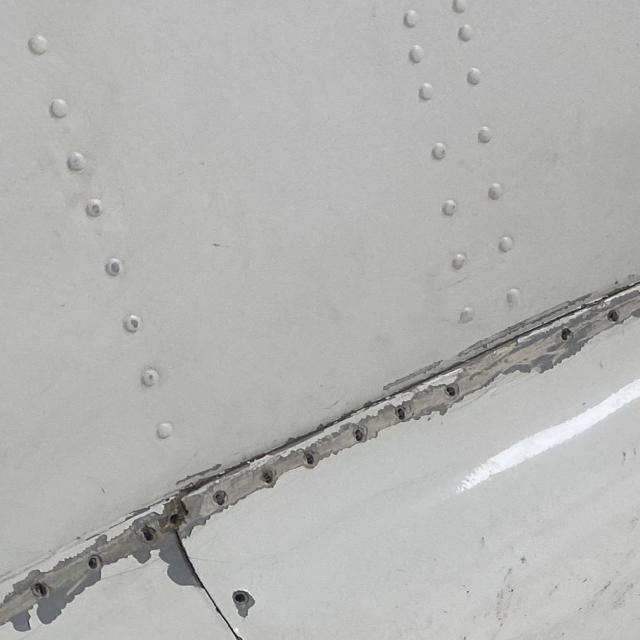Crack: (141, 451, 274, 536)
Missing-head: (230, 589, 254, 614), (351, 421, 375, 441), (603, 304, 626, 322), (441, 379, 461, 398), (390, 401, 412, 418), (84, 551, 102, 570), (138, 523, 157, 540), (302, 448, 321, 464), (558, 323, 575, 340)
Scratch: (0, 275, 640, 635)
